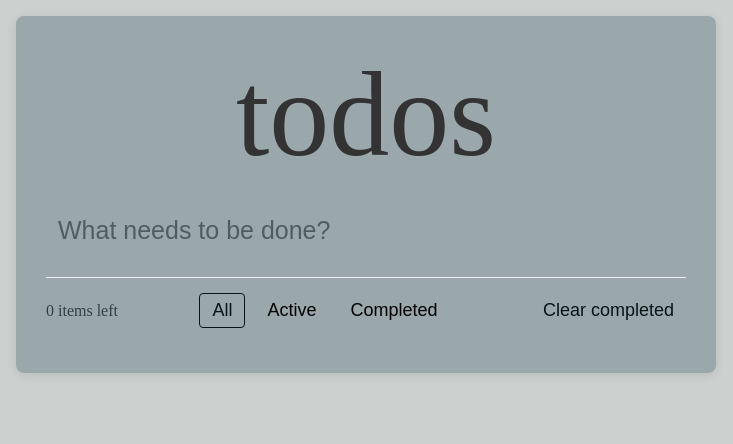
Test: App Component › добавление новой задачи при вводе текста и нажатии клавиши Enter
Type "Test task" into the field with placeholder "What needs to be done?" at (366,230), box 46,204 -> 686,257
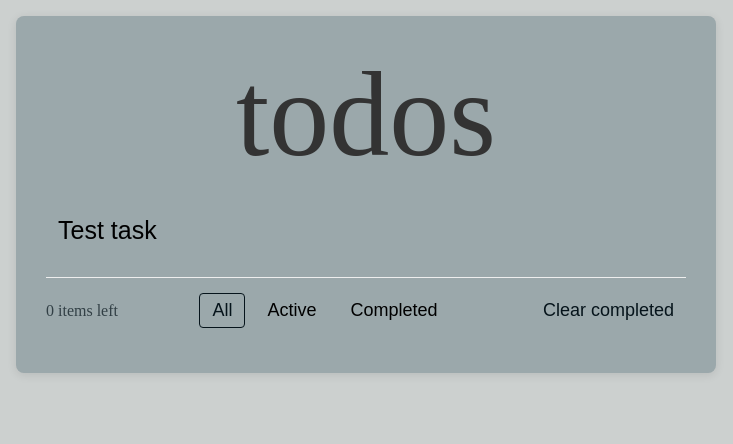
Press Enter in the field with placeholder "What needs to be done?", box 46,204 -> 686,257
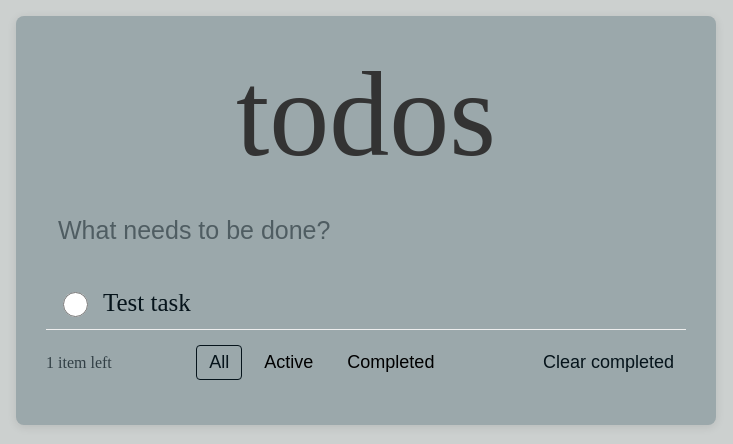
Check: the text "Test task" is shown, box 103,289 -> 191,316
Check: the field with placeholder "What needs to be done?" is empty, box 46,204 -> 686,257
Check: the text "1 item left" is shown, box 46,354 -> 112,372
